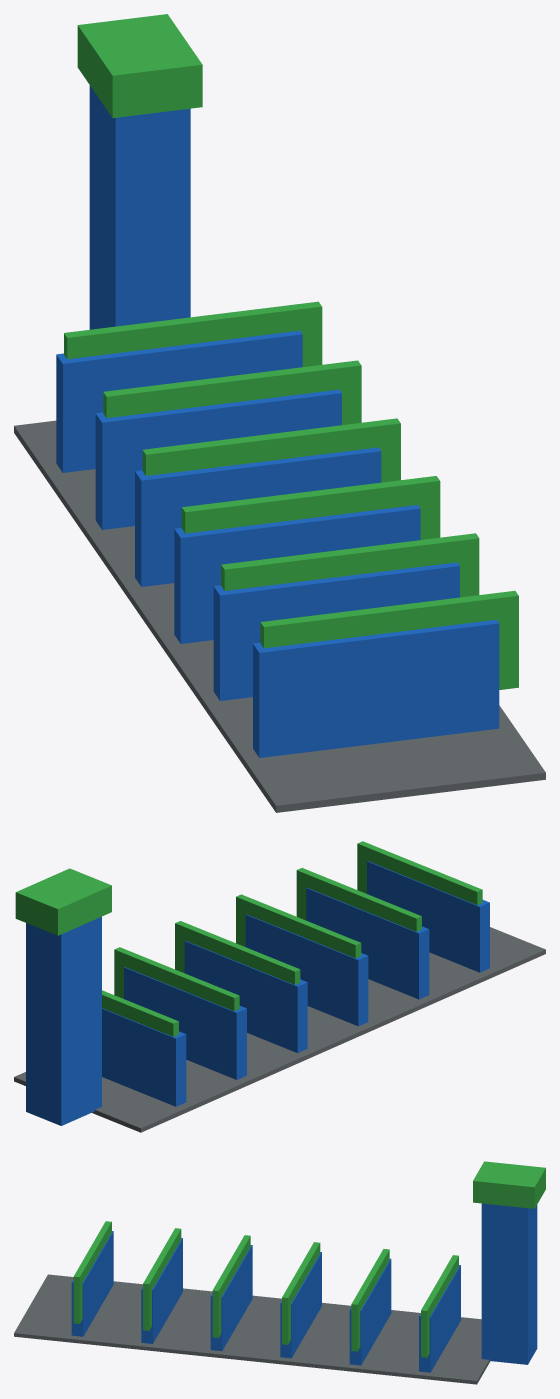
Rendered from greenbike.glb.
3 renders of one model, top to bottom at view 1: azimuth 30°, elevation 25°; view 2: azimuth 150°, elevation 25°; view 3: azimuth 270°, elevation 25°, orthographic. The views are drawn at different scales.
Visible parts, largest first — view 1: greenbike_lod0; view 2: greenbike_lod0; view 3: greenbike_lod0.
Part boxes in pixels (bbox=[...]): greenbike_lod0: bbox=[14, 14, 545, 812]; greenbike_lod0: bbox=[14, 841, 545, 1132]; greenbike_lod0: bbox=[14, 1161, 545, 1384].
Size of what is drawn, in the model's own units: 3.17 by 2.54 by 6.7.
